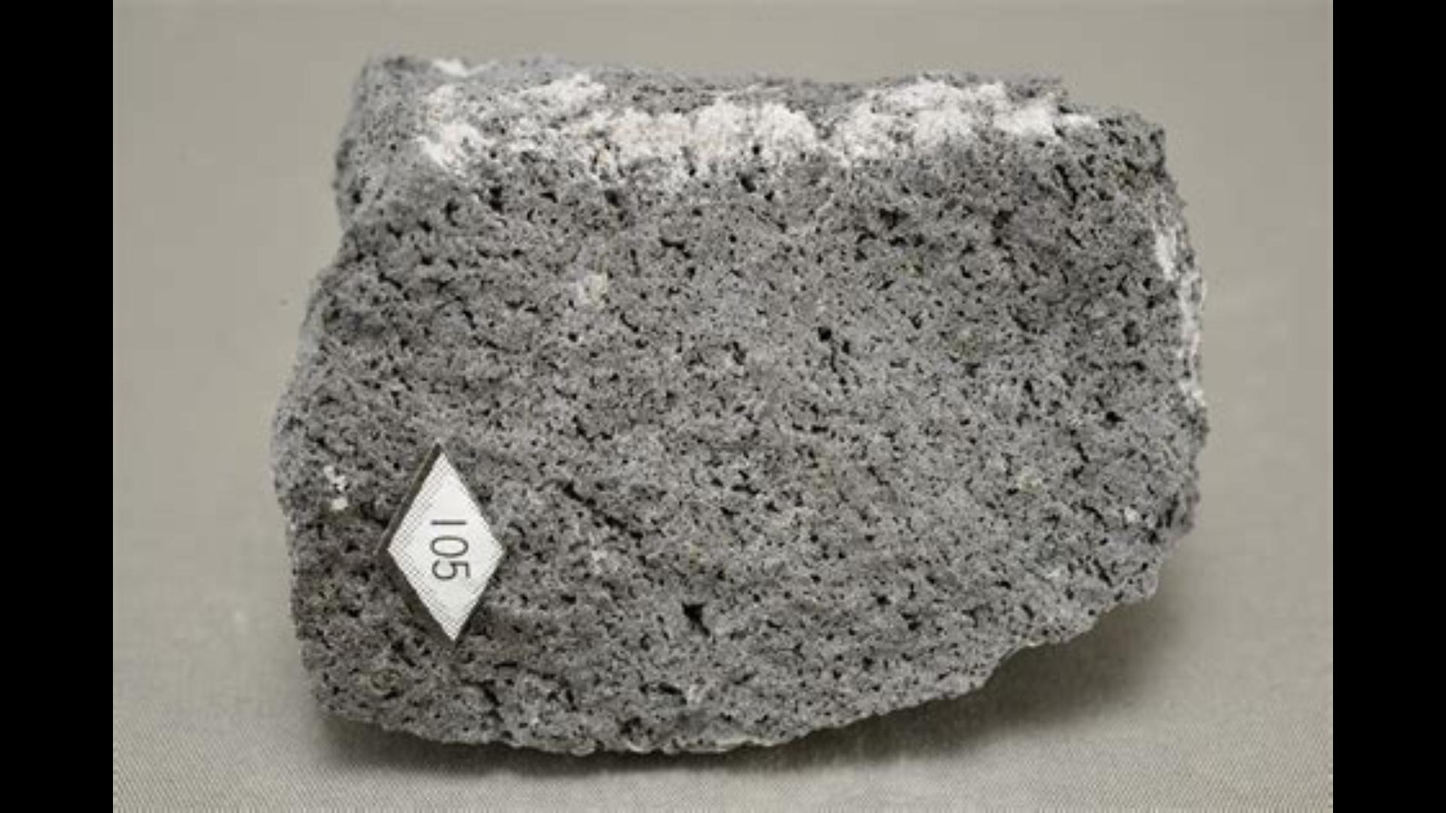rock: (278, 59, 1204, 749)
